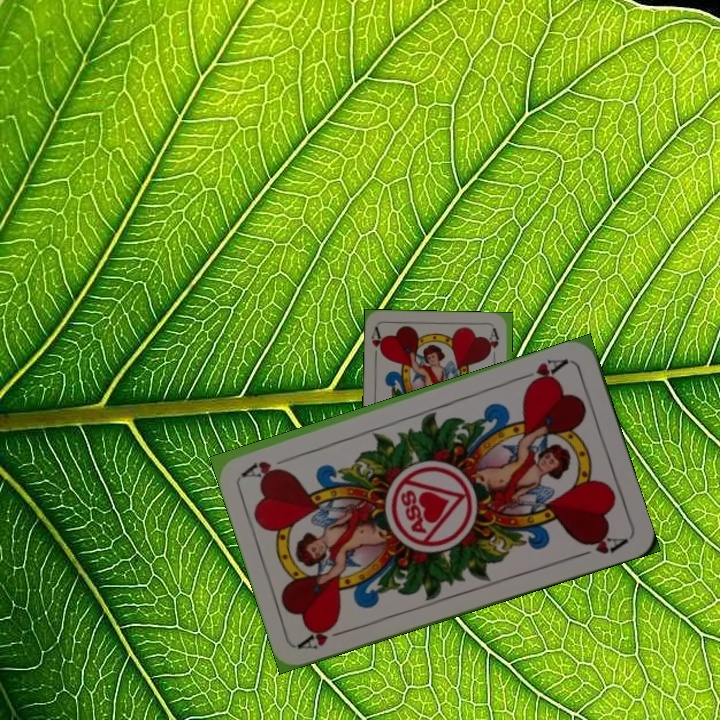HA: (296, 618, 354, 653), (514, 354, 571, 389), (367, 324, 387, 365)
